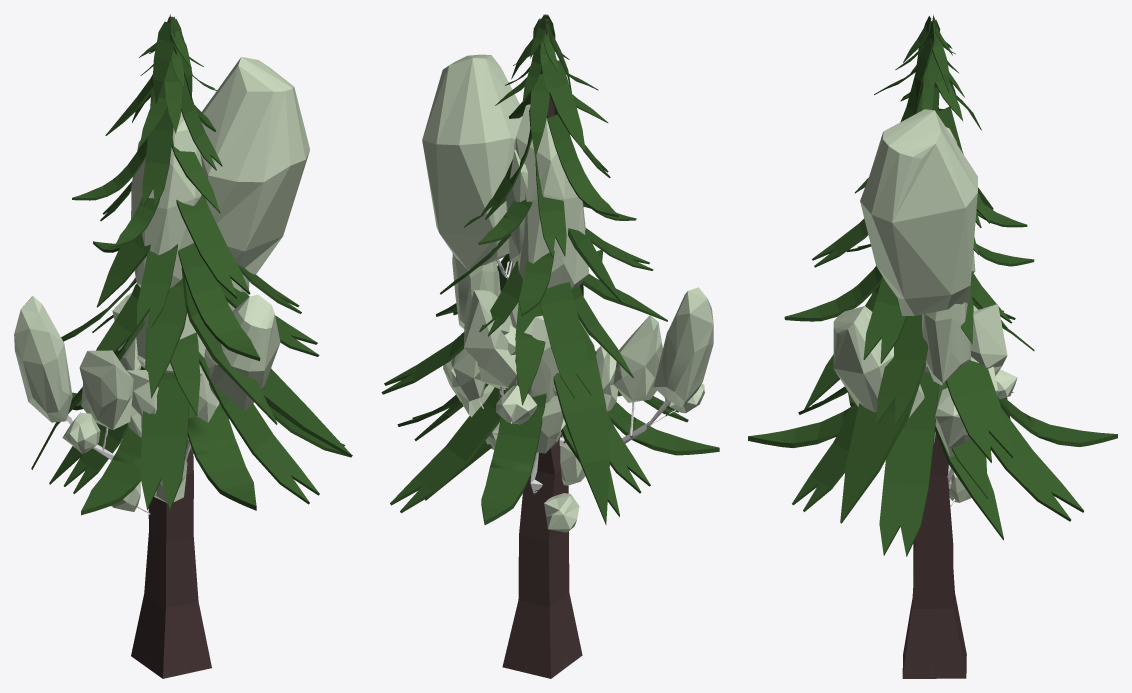
Rendered from Assets_M_trees.fbx.
The picture shows the model from 3 angles, left to right: view 1: azimuth 30°, elevation 25°; view 2: azimuth 150°, elevation 25°; view 3: azimuth 270°, elevation 25°; orthographic projection.
Parts seen in each view (by area): view 1: SM_spruce_01, SM_brich_02, SM_brich_01, SM_brich_03; view 2: SM_spruce_01, SM_brich_02, SM_brich_03, SM_brich_01; view 3: SM_spruce_01, SM_brich_02, SM_brich_01, SM_brich_03.
Boxes of the visible parts, x1,y1,x2,y2 form: SM_spruce_01: [31, 14, 352, 678]; SM_brich_02: [14, 57, 309, 460]; SM_brich_01: [118, 111, 280, 460]; SM_brich_03: [111, 292, 205, 514]; SM_spruce_01: [381, 14, 719, 678]; SM_brich_02: [422, 54, 713, 446]; SM_brich_03: [443, 262, 617, 532]; SM_brich_01: [498, 104, 588, 395]; SM_spruce_01: [748, 14, 1117, 678]; SM_brich_02: [860, 109, 1017, 483]; SM_brich_01: [833, 127, 975, 418]; SM_brich_03: [923, 305, 977, 506].
Size of the model in its own units: 314 by 602 by 309.
